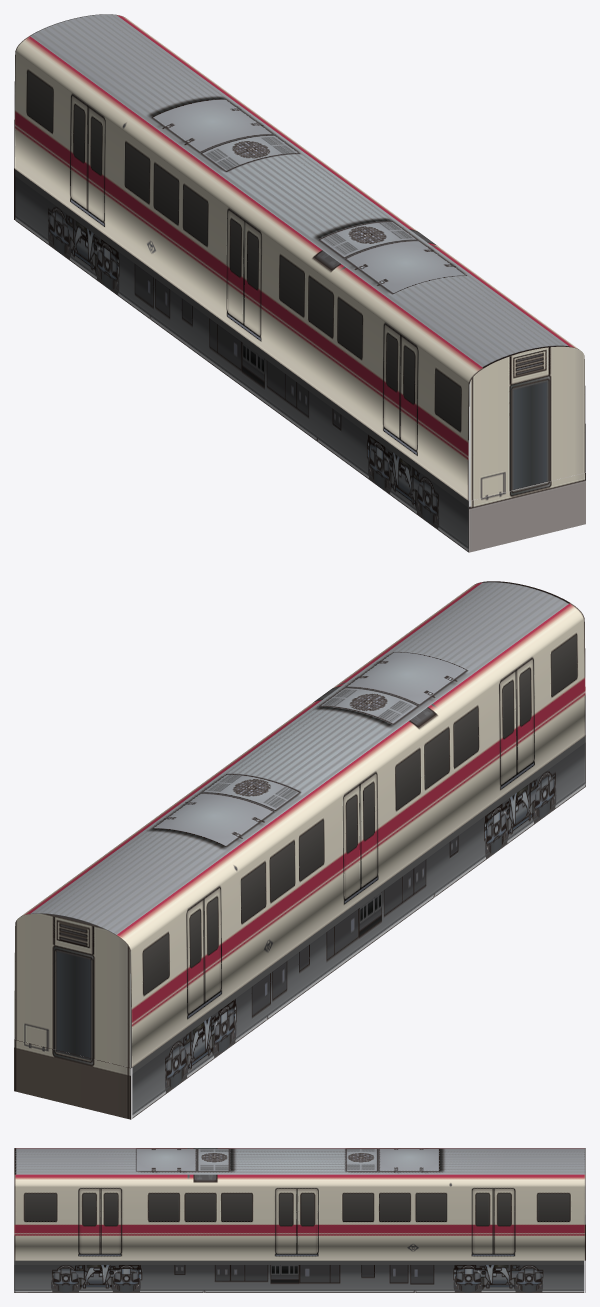
File: car2.glb
3 views of the same model, one above another, from view 1: azimuth 30°, elevation 25°; view 2: azimuth 150°, elevation 25°; view 3: azimuth 270°, elevation 25° (orthographic). The views are drawn at different scales.
Visible parts, largest first — view 1: kobedentetsu-2000-car2; view 2: kobedentetsu-2000-car2; view 3: kobedentetsu-2000-car2.
Part boxes in pixels (box(x1,y1,x2,y2)): kobedentetsu-2000-car2: box(14, 14, 585, 552); kobedentetsu-2000-car2: box(14, 581, 585, 1119); kobedentetsu-2000-car2: box(14, 1148, 585, 1292).
Size of the model in its own units: 2.7 by 4.12 by 18.17.
Materials: 9 (8 with a texture image).
